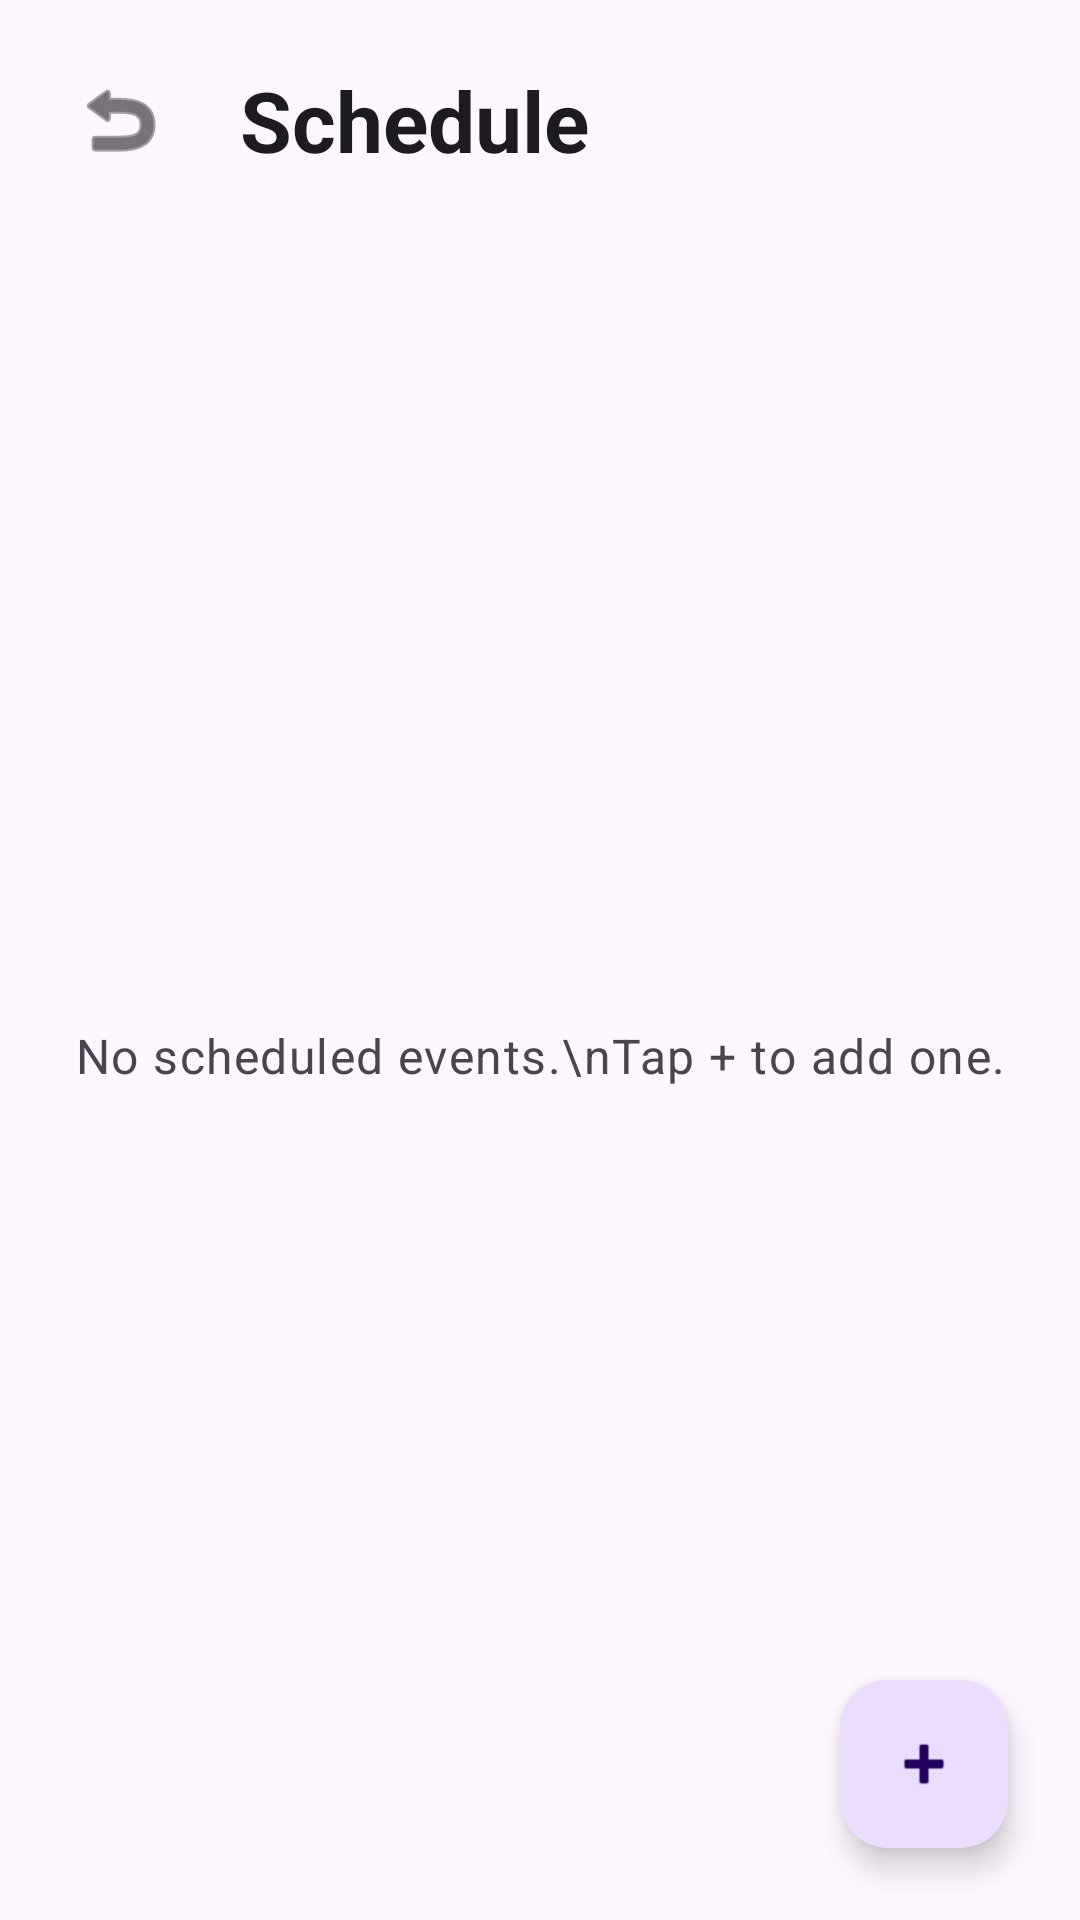

Screen size 1080px x 1920px. Icon name, then its box in pixels as (x1, y1, x2, y2):
Add Event: (840, 1680, 1008, 1848)
Back: (87, 89, 156, 152)
